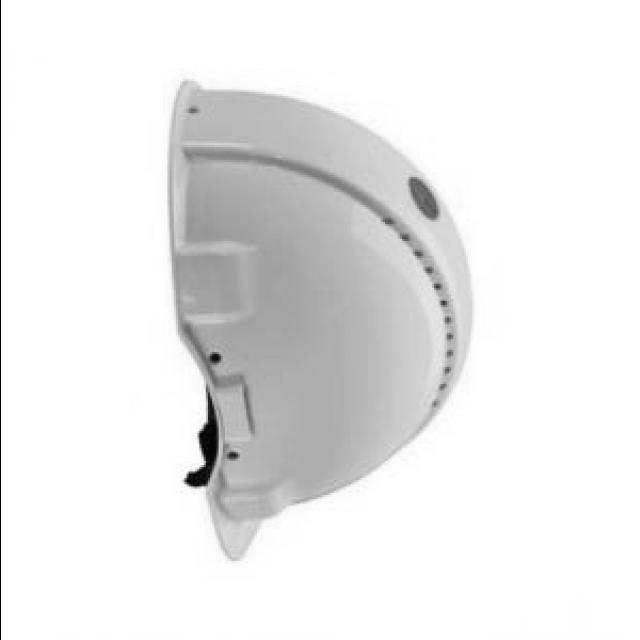safety_helmet: (164, 77, 474, 561)
